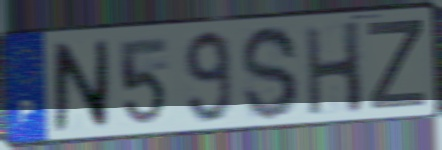5: (116, 35, 172, 128)
9: (181, 27, 235, 127)
H: (302, 18, 367, 118)
N: (50, 37, 111, 134)
S: (239, 23, 301, 123)
Z: (365, 17, 428, 112)
